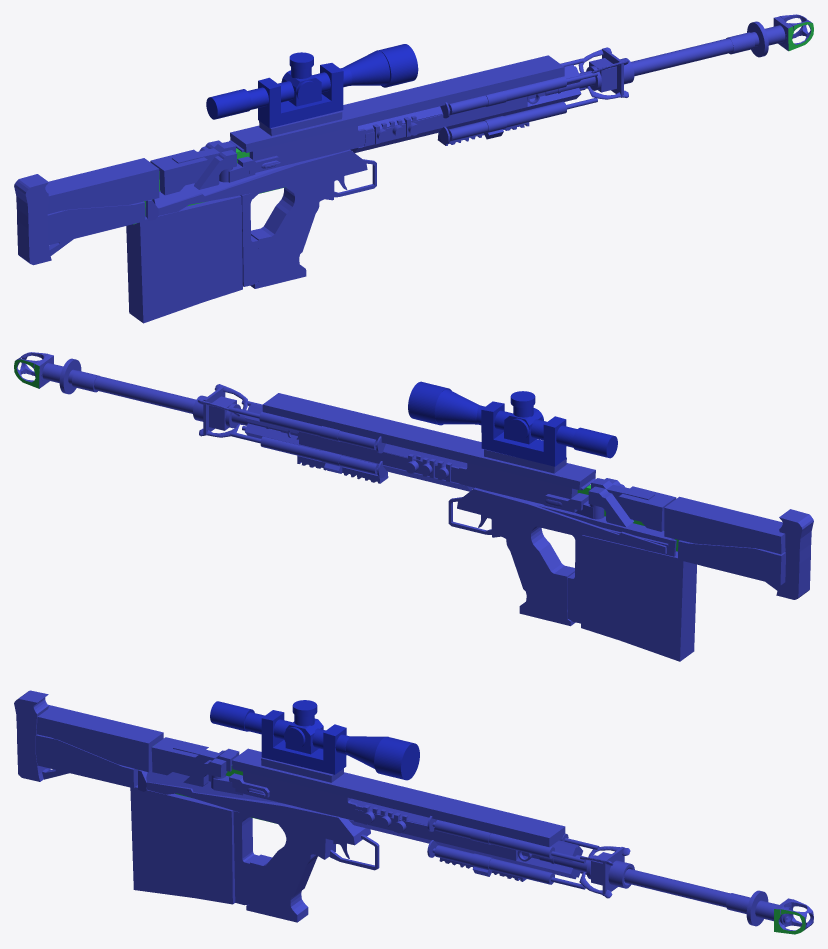
The model's file is lynx.glb.
3 renders of one model, top to bottom at view 1: azimuth 30°, elevation 25°; view 2: azimuth 150°, elevation 25°; view 3: azimuth 330°, elevation 25°, orthographic.
Parts seen in each view (by area): view 1: Mesh_0, Mesh_2, Mesh_39, Mesh_45, Mesh_13, Mesh_73, Mesh_47, Mesh_81, Mesh_17, Mesh_48, Mesh_43, Mesh_3 (+14 smaller); view 2: Mesh_0, Mesh_2, Mesh_39, Mesh_45, Mesh_13, Mesh_47, Mesh_81, Mesh_17, Mesh_73, Mesh_48, Mesh_43, Mesh_3 (+16 smaller); view 3: Mesh_0, Mesh_2, Mesh_39, Mesh_45, Mesh_13, Mesh_47, Mesh_81, Mesh_17, Mesh_73, Mesh_7, Mesh_43, Mesh_48 (+19 smaller).
Boxes of the visible parts, x1,y1,x2,y2 form: Mesh_0: [126, 195, 242, 323]; Mesh_2: [230, 55, 564, 152]; Mesh_39: [250, 178, 334, 288]; Mesh_45: [45, 158, 159, 214]; Mesh_13: [158, 149, 367, 215]; Mesh_73: [14, 174, 51, 265]; Mesh_47: [47, 201, 145, 244]; Mesh_81: [258, 63, 343, 128]; Mesh_17: [229, 126, 373, 172]; Mesh_48: [631, 32, 759, 76]; Mesh_43: [364, 96, 527, 146]; Mesh_3: [150, 149, 207, 195]; Mesh_0: [581, 535, 696, 661]; Mesh_2: [262, 393, 595, 490]; Mesh_39: [491, 517, 575, 626]; Mesh_45: [664, 496, 785, 554]; Mesh_13: [457, 487, 666, 554]; Mesh_47: [678, 540, 785, 585]; Mesh_81: [481, 401, 566, 466]; Mesh_17: [451, 463, 595, 504]; Mesh_73: [776, 509, 813, 599]; Mesh_48: [68, 369, 195, 413]; Mesh_43: [299, 431, 459, 483]; Mesh_3: [619, 486, 676, 531]; Mesh_0: [130, 785, 235, 904]; Mesh_2: [232, 748, 565, 847]; Mesh_39: [246, 824, 335, 922]; Mesh_45: [36, 704, 163, 772]; Mesh_13: [146, 782, 370, 845]; Mesh_47: [36, 734, 137, 788]; Mesh_81: [261, 710, 346, 774]; Mesh_17: [232, 766, 363, 820]; Mesh_73: [14, 690, 50, 781]; Mesh_7: [233, 811, 272, 905]; Mesh_43: [354, 809, 518, 860]; Mesh_48: [624, 868, 730, 907].
Bounding box in the file's own units: 0.4746 × 0.1265 × 0.024.
5 materials, 4 textured.
